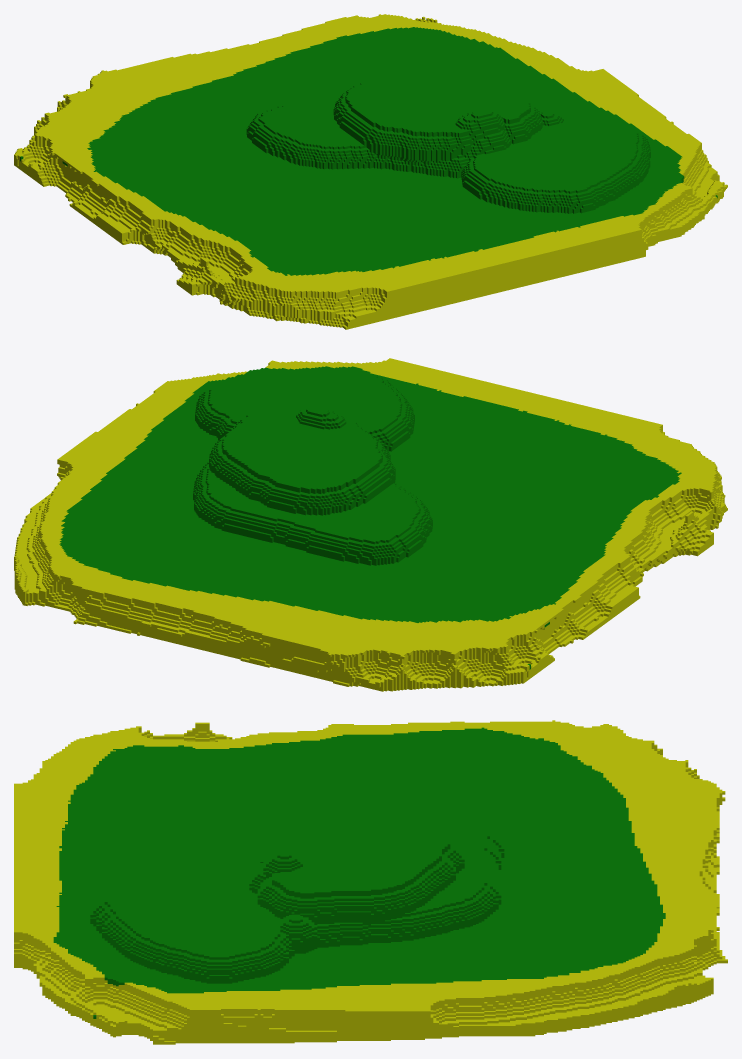
File: Island.obj
The picture shows the model from 3 angles, top to bottom: view 1: azimuth 30°, elevation 25°; view 2: azimuth 150°, elevation 25°; view 3: azimuth 270°, elevation 25°; orthographic projection. The views are drawn at different scales.
Size of the model in its own units: 24.9 by 3.4 by 25.2.
1 material, 1 textured.
